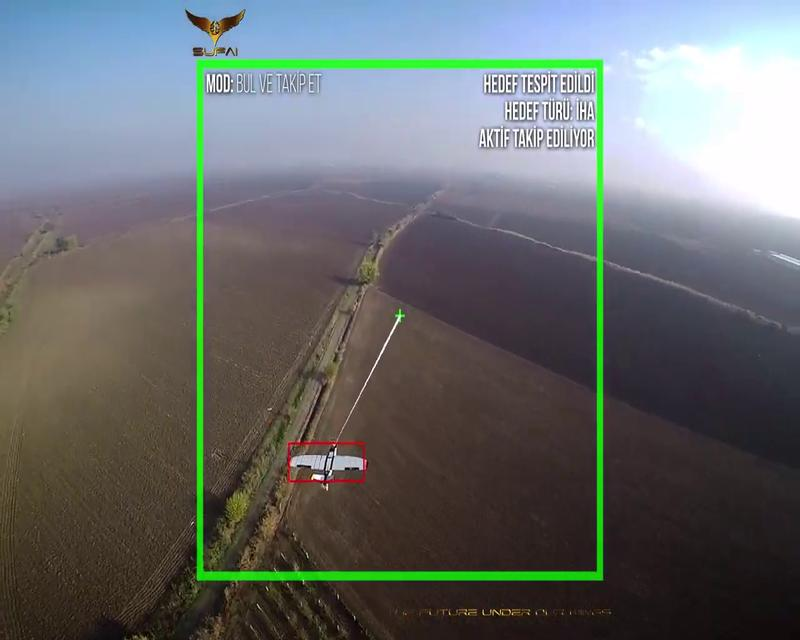UAV: (288, 444, 368, 490)
